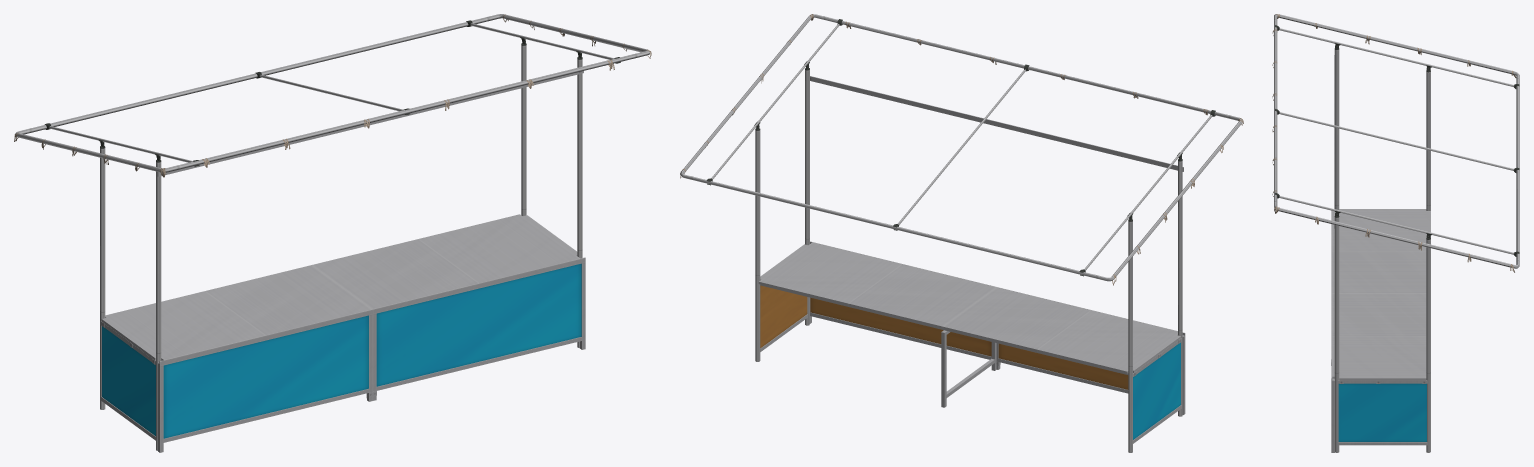
Rendered from jsf_4P_s04_c02_t01.fbx.
3 views of the same model, side by side, from view 1: azimuth 30°, elevation 25°; view 2: azimuth 150°, elevation 25°; view 3: azimuth 270°, elevation 25° (orthographic). The views are drawn at different scales.
Visible parts, largest first — view 1: Base_s04_c02, Table_4P_s04_t01, Pillar4_s04, Rope_4P_s04; view 2: Table_4P_s04_t01, Pillar4_s04, Base_s04_c02, Support; view 3: Table_4P_s04_t01, Pillar4_s04, Base_s04_c02, Rope_4P_s04.
Part boxes in pixels (<box>): Base_s04_c02: <box>100,257,585,452</box>; Table_4P_s04_t01: <box>101,214,579,364</box>; Pillar4_s04: <box>14,14,649,450</box>; Rope_4P_s04: <box>14,14,651,177</box>; Table_4P_s04_t01: <box>758,242,1181,376</box>; Pillar4_s04: <box>680,14,1242,452</box>; Base_s04_c02: <box>760,241,1185,443</box>; Support: <box>941,330,996,407</box>; Table_4P_s04_t01: <box>1332,209,1430,383</box>; Pillar4_s04: <box>1274,14,1519,452</box>; Base_s04_c02: <box>1331,210,1427,452</box>; Rope_4P_s04: <box>1272,14,1516,272</box>.
Size of the model in its own units: 395 by 243 by 211.
